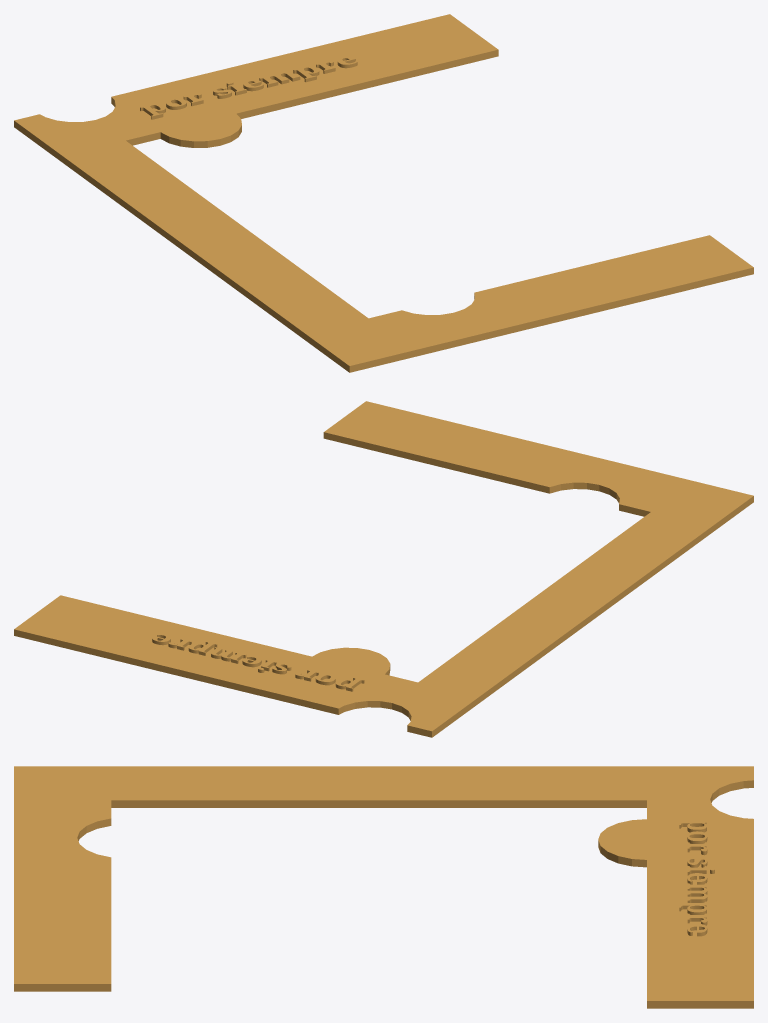
The model's file is Bucle.gltf.
3 renders of one model, top to bottom at view 1: azimuth 30°, elevation 25°; view 2: azimuth 150°, elevation 25°; view 3: azimuth 270°, elevation 25°, orthographic. The views are drawn at different scales.
Parts seen in each view (by area): view 1: Mesh_Mesh_head_geo.001_lambert2SG.001; view 2: Mesh_Mesh_head_geo.001_lambert2SG.001; view 3: Mesh_Mesh_head_geo.001_lambert2SG.001.
Part boxes in pixels (<box>): Mesh_Mesh_head_geo.001_lambert2SG.001: <box>14,14,753,372</box>; Mesh_Mesh_head_geo.001_lambert2SG.001: <box>14,401,753,737</box>; Mesh_Mesh_head_geo.001_lambert2SG.001: <box>14,766,753,1008</box>.
Size of the model in its own units: 0.9 by 0.02 by 1.2.
